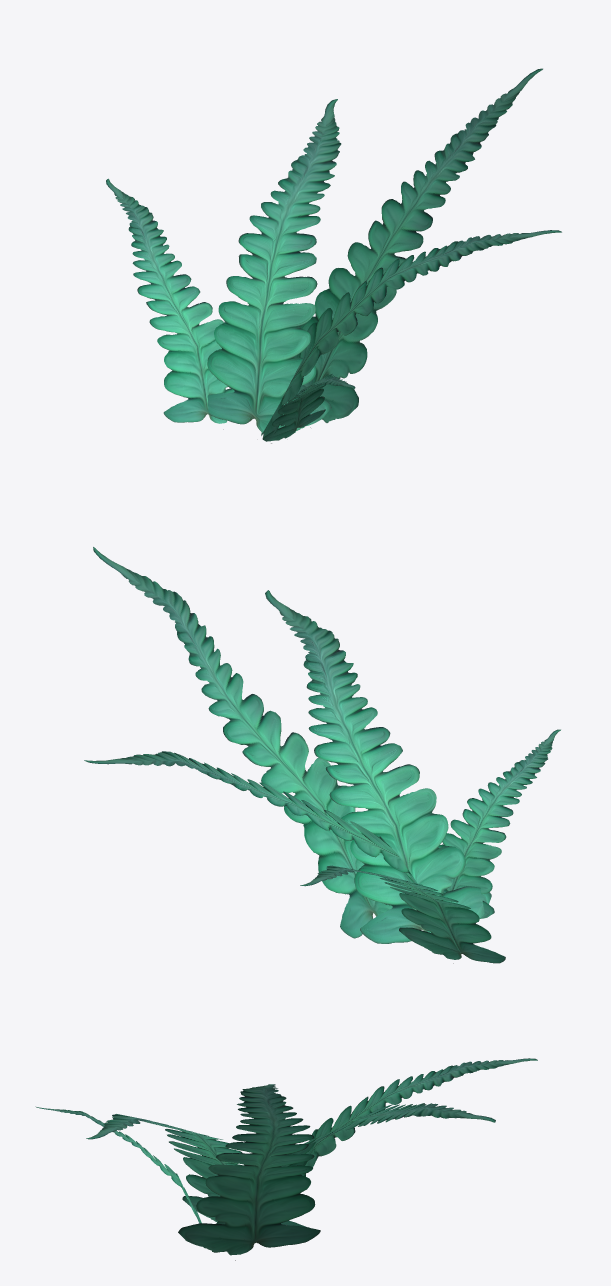
File: plant11.FBX
The picture shows the model from 3 angles, top to bottom: view 1: azimuth 30°, elevation 25°; view 2: azimuth 150°, elevation 25°; view 3: azimuth 270°, elevation 25°; orthographic projection. The views are drawn at different scales.
Parts seen in each view (by area): view 1: Plant8; view 2: Plant8; view 3: Plant8.
Part boxes in pixels (x1,y1,x2,y2): Plant8: (106,68,561,443); Plant8: (84,547,560,963); Plant8: (35,1058,537,1260).
Size of the model in its own units: 0.2123 by 0.1487 by 0.24.
